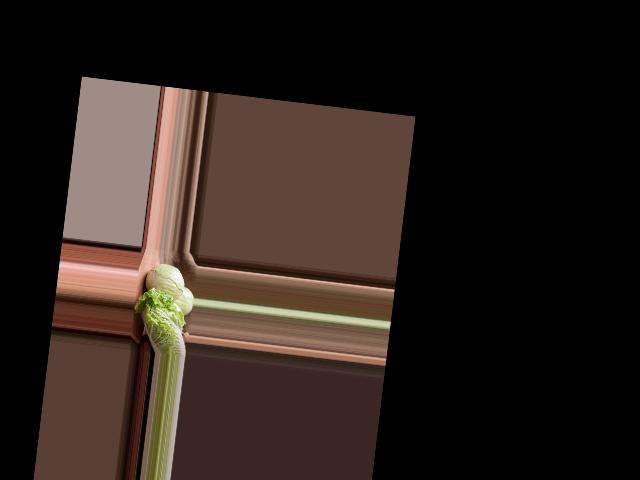lettuce: (128, 285, 190, 355)
